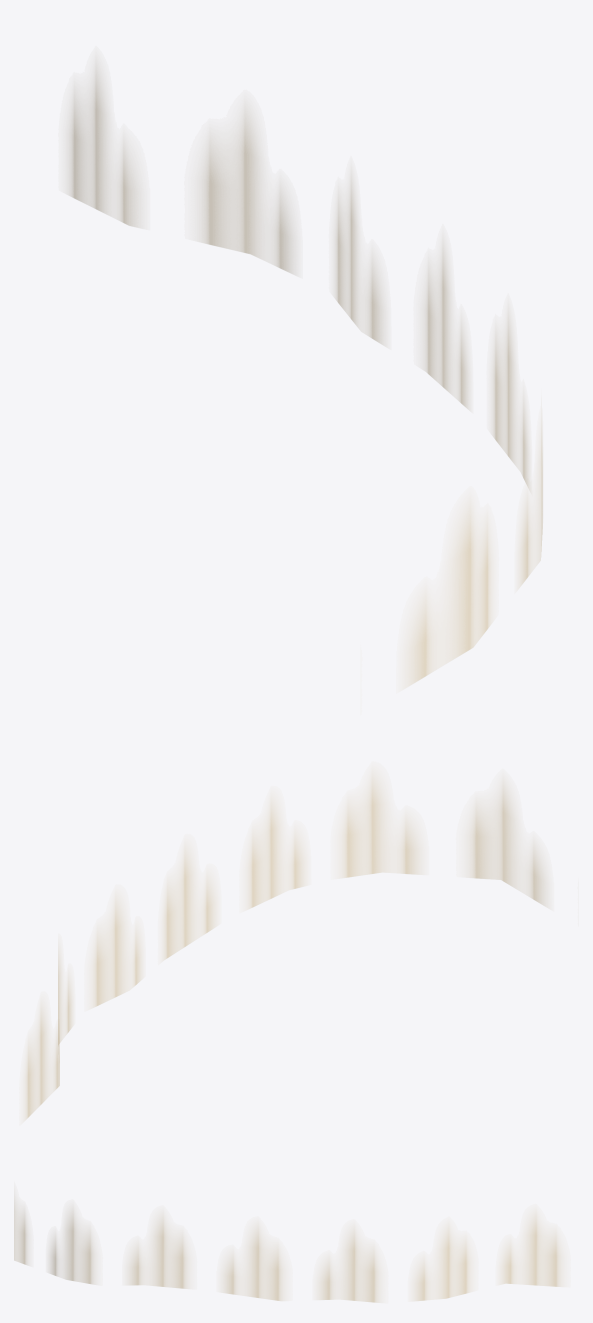
3 renders of one model, top to bottom at view 1: azimuth 30°, elevation 25°; view 2: azimuth 150°, elevation 25°; view 3: azimuth 270°, elevation 25°, orthographic. The views are drawn at different scales.
Visible parts, largest first — view 1: dynamiclight.png__; view 2: dynamiclight.png__; view 3: dynamiclight.png__.
Part boxes in pixels (x1,y1,x2,y2): dynamiclight.png__: (70, 70, 542, 684); dynamiclight.png__: (26, 778, 544, 1118); dynamiclight.png__: (14, 1202, 560, 1302).
Bounding box in the file's own units: 81.64 × 58.9 × 233.
1 material, 1 textured.
